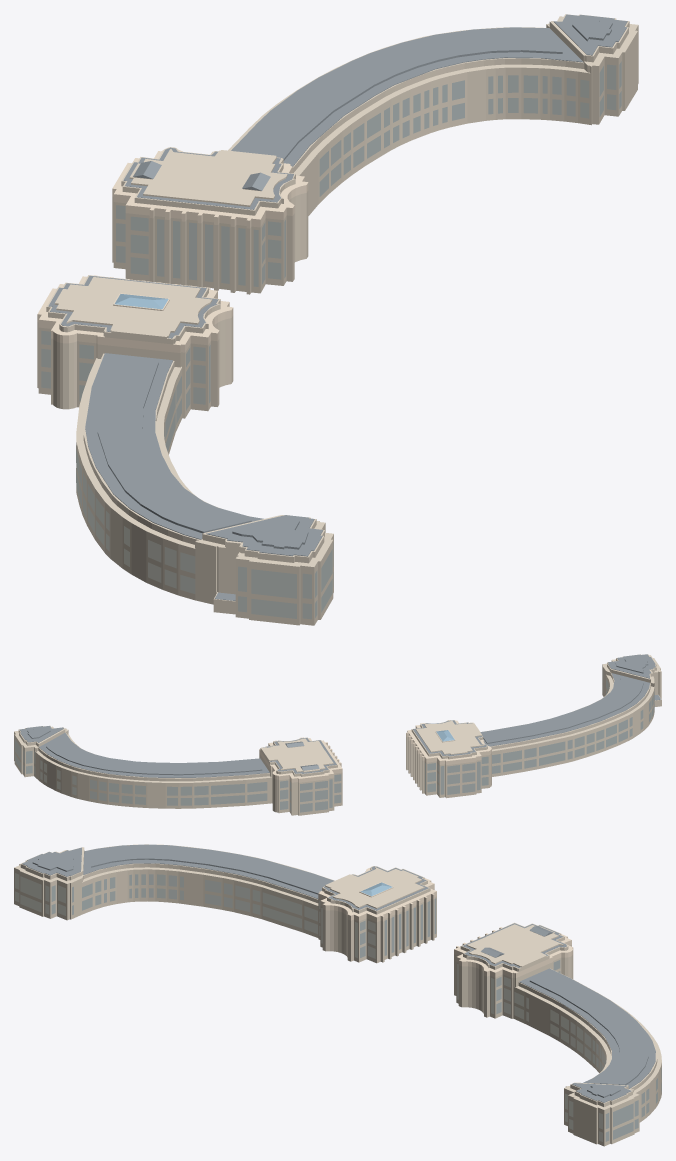
The picture shows the model from 3 angles, top to bottom: view 1: azimuth 30°, elevation 25°; view 2: azimuth 150°, elevation 25°; view 3: azimuth 270°, elevation 25°; orthographic projection. The views are drawn at different scales.
Parts seen in each view (by area): view 1: stone, roof, window, trim; view 2: stone, roof, window, trim; view 3: stone, roof, window, trim.
Part boxes in pixels (<box>): stone: <box>37,14,638,625</box>; roof: <box>48,14,627,600</box>; window: <box>41,61,621,619</box>; trim: <box>37,149,308,352</box>; stone: <box>14,654,661,815</box>; roof: <box>19,654,661,777</box>; window: <box>14,670,654,812</box>; trim: <box>259,720,491,782</box>; stone: <box>14,844,661,1146</box>; roof: <box>22,844,655,1102</box>; window: <box>15,873,661,1141</box>; trim: <box>318,868,573,977</box>.
Bounding box in the file's own units: 328 × 30 × 335.
